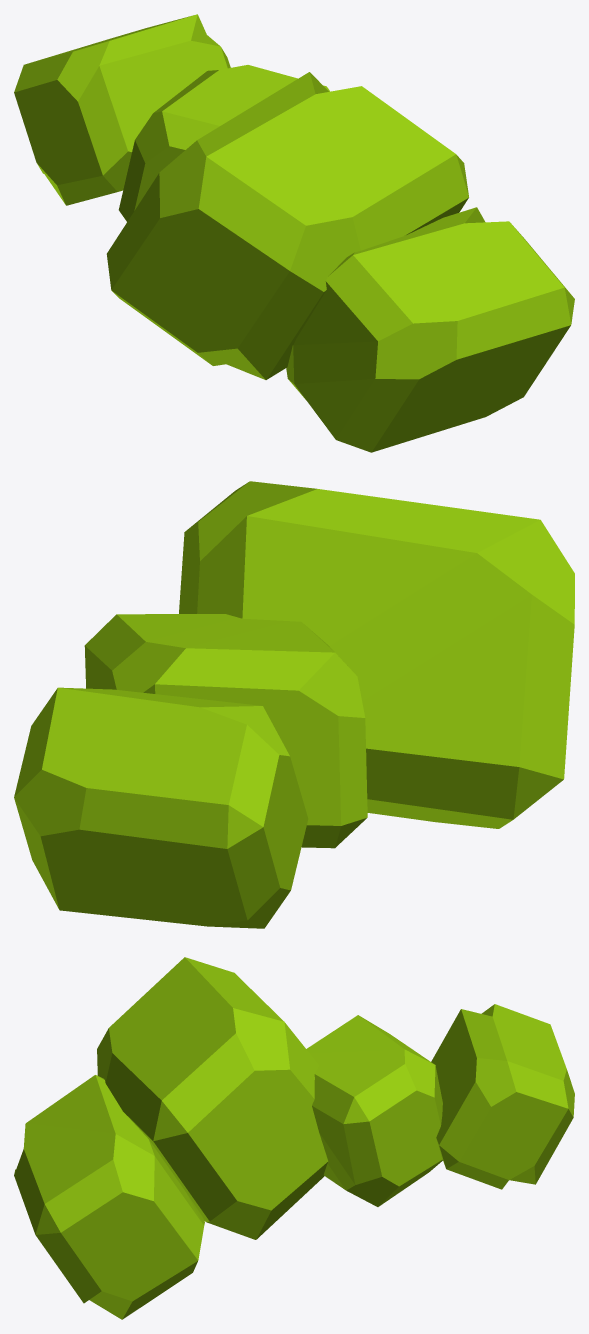
Rendered from tree_big_boxy_bevel_5.fbx.
3 renders of one model, top to bottom at view 1: azimuth 30°, elevation 25°; view 2: azimuth 150°, elevation 25°; view 3: azimuth 270°, elevation 25°, orthographic. The views are drawn at different scales.
Parts seen in each view (by area): view 1: tree_big_boxy_bevel_5; view 2: tree_big_boxy_bevel_5; view 3: tree_big_boxy_bevel_5.
Boxes of the visible parts, x1,y1,x2,y2 form: tree_big_boxy_bevel_5: (14,14,574,452); tree_big_boxy_bevel_5: (14,481,574,928); tree_big_boxy_bevel_5: (14,957,574,1319).
Bounding box in the file's own units: 189 × 150 × 290.
